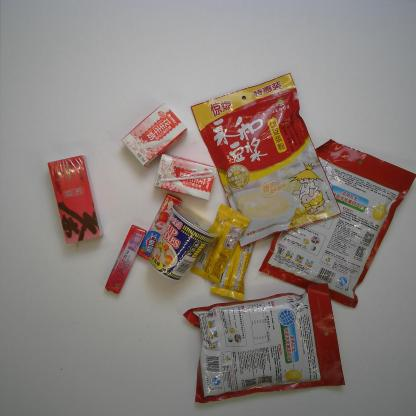Candy: (134, 193, 184, 262), (101, 222, 147, 294)
Chocolate: (189, 202, 253, 286), (208, 226, 258, 301)
Instant Drink: (254, 134, 416, 308), (189, 70, 341, 252), (180, 280, 346, 404), (45, 154, 105, 248)
Instant Noodles: (147, 202, 225, 284)
Milk: (121, 102, 193, 171), (149, 150, 217, 202)
